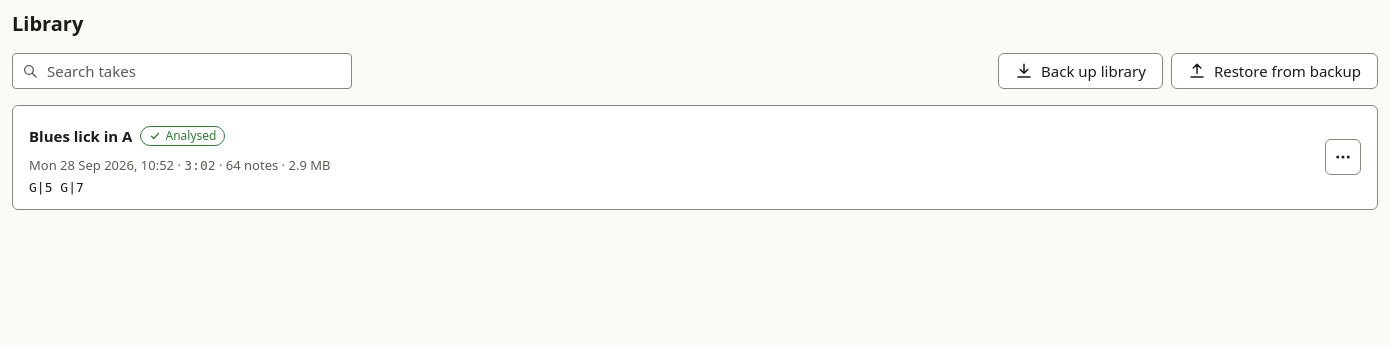
Test case: row actions › an analysed row: Rename, Delete audio only, a separator, Delete take; focus on Rename
Click the button named "More actions for Blues lick in A" at point(1343, 157), box [1325,139,1361,175]
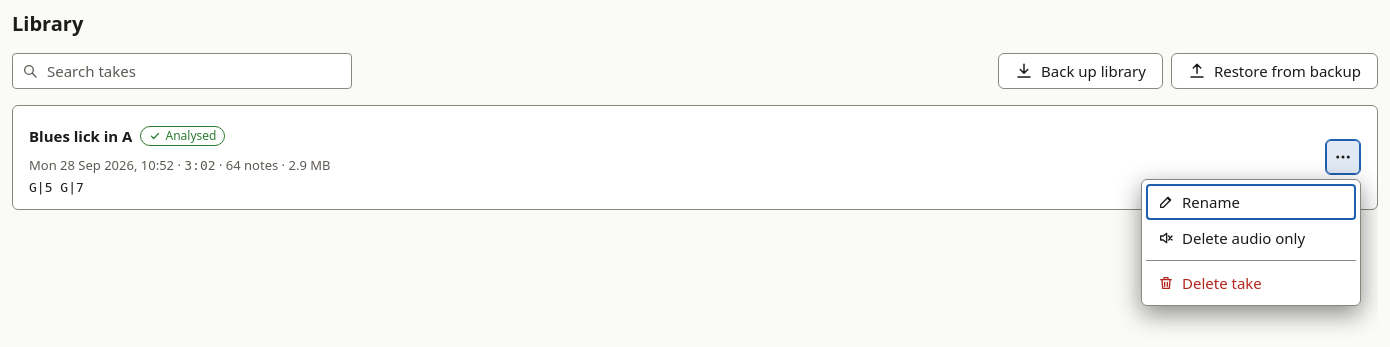
Expected: the button named "More actions for Blues lick in A" is expanded, [1325,139,1361,175]
Expected: the menu item "Rename" is shown, [1146,184,1356,220]
